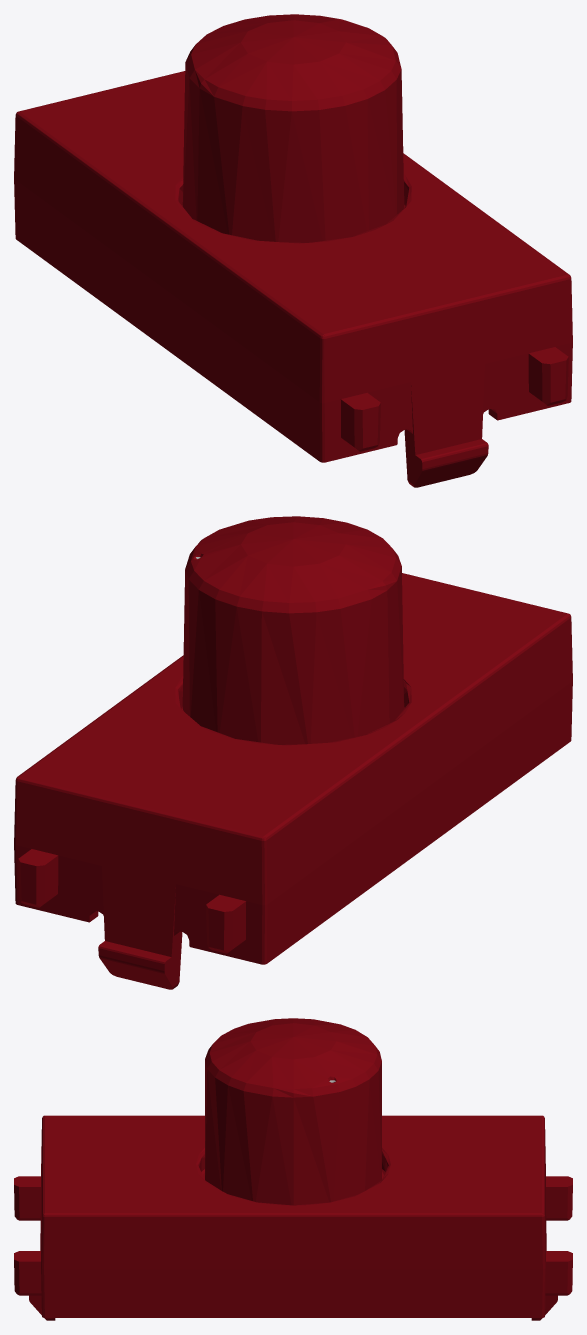
Rendered from s2_switch1_obj.obj.
The picture shows the model from 3 angles, top to bottom: view 1: azimuth 30°, elevation 25°; view 2: azimuth 150°, elevation 25°; view 3: azimuth 270°, elevation 25°; orthographic projection. The views are drawn at different scales.
Parts seen in each view (by area): view 1: 92, 1, 55, 69, 21, 9, 89; view 2: 92, 1, 55, 69, 21, 9, 89; view 3: 1, 92, 69, 9, 55, 89.
Boxes of the visible parts, bbox=[...] form: 92: bbox=[182, 14, 404, 242]; 1: bbox=[16, 71, 570, 336]; 55: bbox=[324, 279, 571, 487]; 69: bbox=[14, 114, 572, 433]; 21: bbox=[14, 178, 397, 462]; 9: bbox=[488, 342, 572, 420]; 89: bbox=[16, 113, 572, 450]; 92: bbox=[182, 516, 404, 744]; 1: bbox=[17, 573, 569, 838]; 55: bbox=[15, 781, 262, 989]; 69: bbox=[14, 615, 572, 981]; 21: bbox=[189, 680, 572, 964]; 9: bbox=[14, 844, 98, 922]; 89: bbox=[14, 614, 570, 952]; 1: bbox=[43, 1115, 543, 1214]; 92: bbox=[205, 1018, 381, 1205]; 69: bbox=[41, 1117, 545, 1269]; 9: bbox=[41, 1268, 545, 1317]; 55: bbox=[14, 1129, 572, 1320]; 89: bbox=[15, 1117, 571, 1294].
Bounding box in the file's own units: 24.51 × 30.94 × 57.44.
